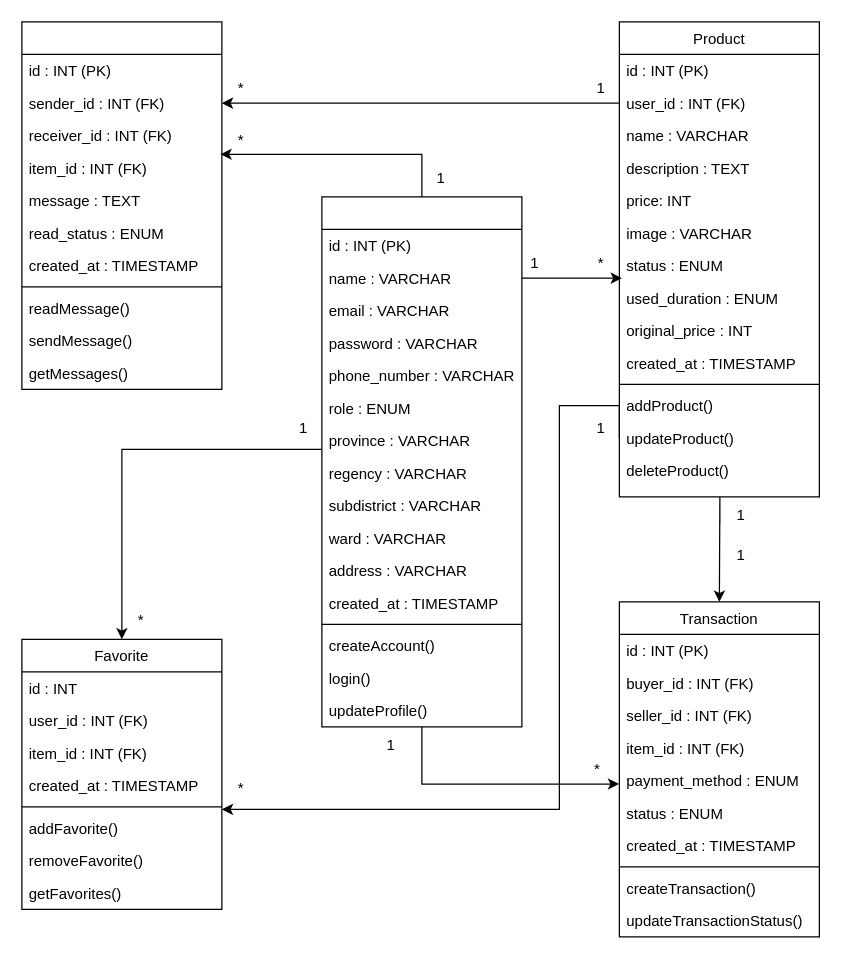
Some shapes in this 841 by 963 pixel diagram are drawn without their labels. Each missing label, with the box of its shape:
Chat: (21, 21, 222, 389)
User: (321, 196, 522, 727)
